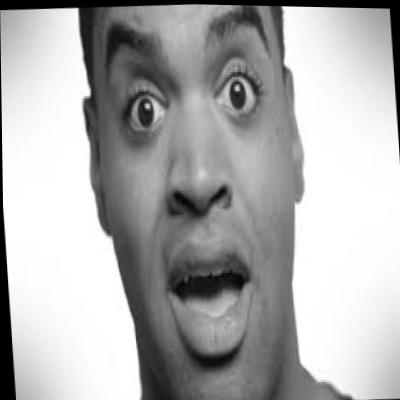surprise: (74, 1, 322, 400)
